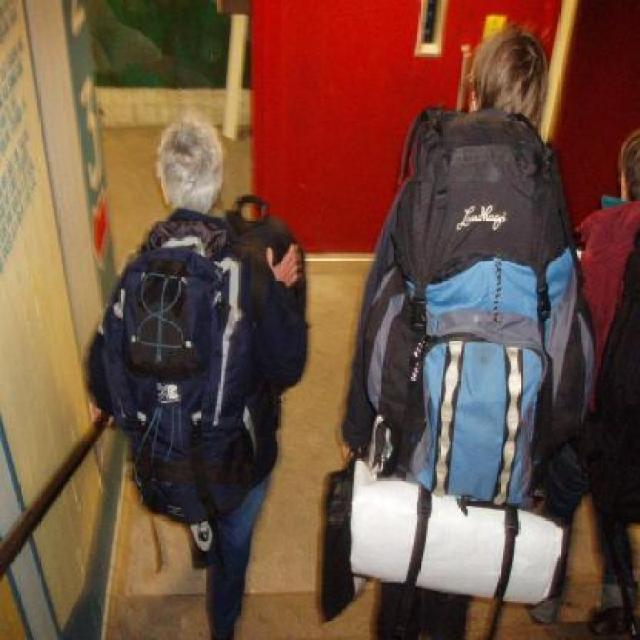backpack: (340, 103, 602, 509), (98, 240, 260, 528)
